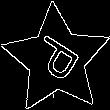P_SE: (26, 31, 87, 88)
